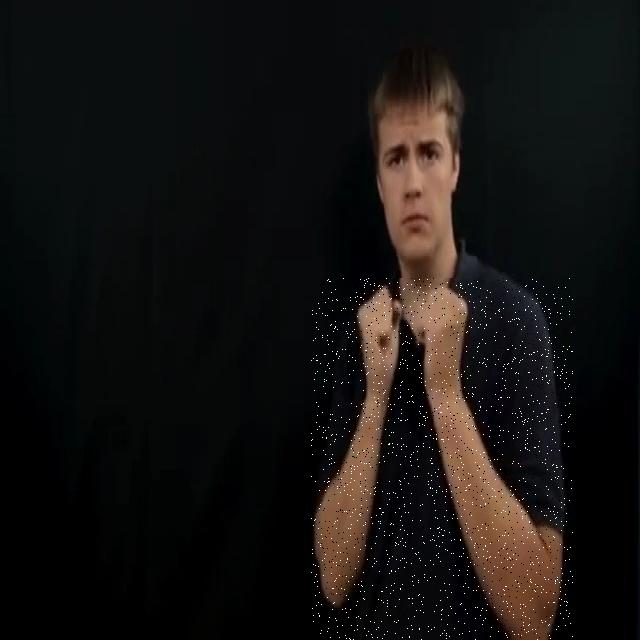cold: (312, 278, 574, 640)
